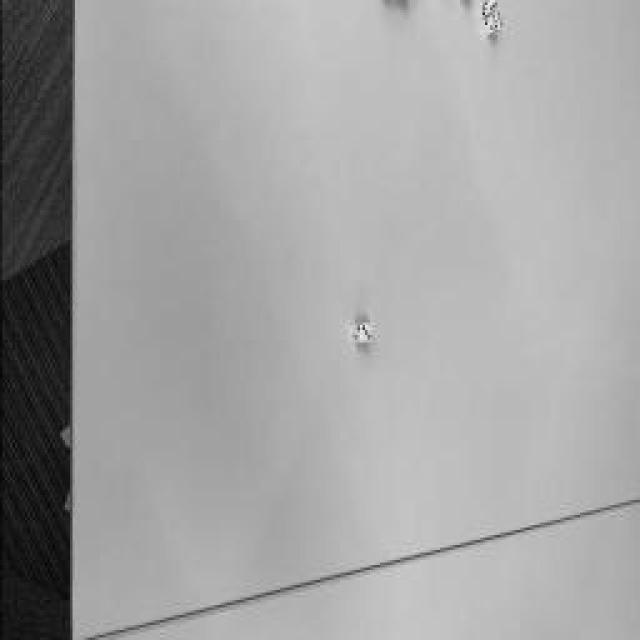dice_3: (359, 324, 371, 341)
dice_6: (491, 12, 501, 30)
